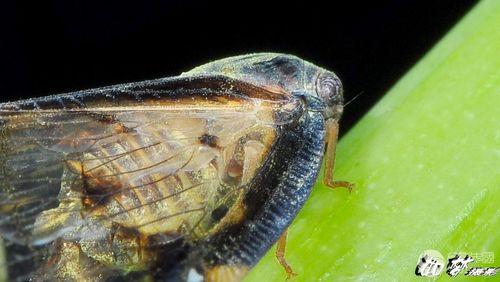Cicadellidae: (1, 50, 351, 282)
